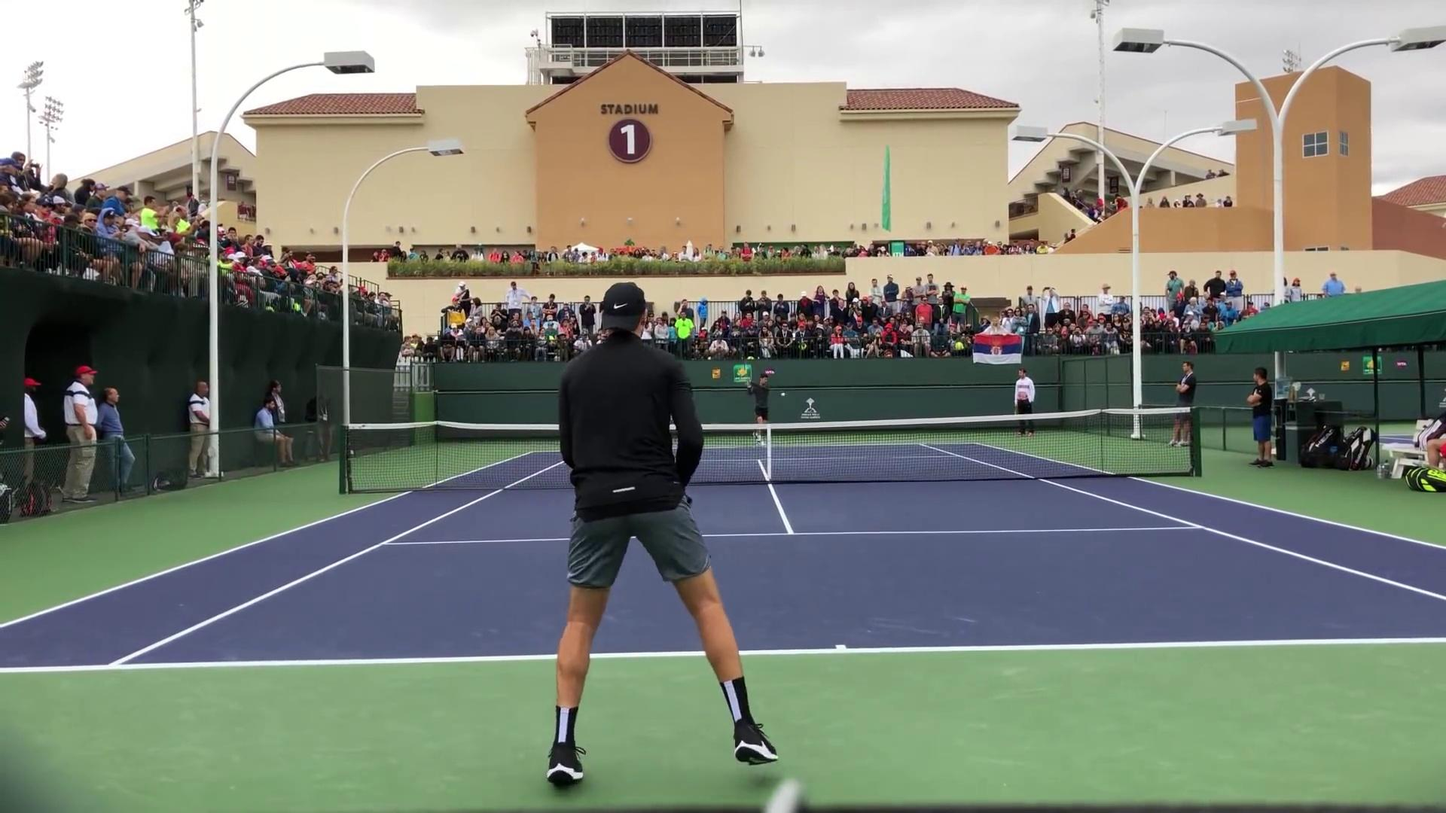ball: (780, 392, 787, 396), (1132, 435, 1135, 438)
